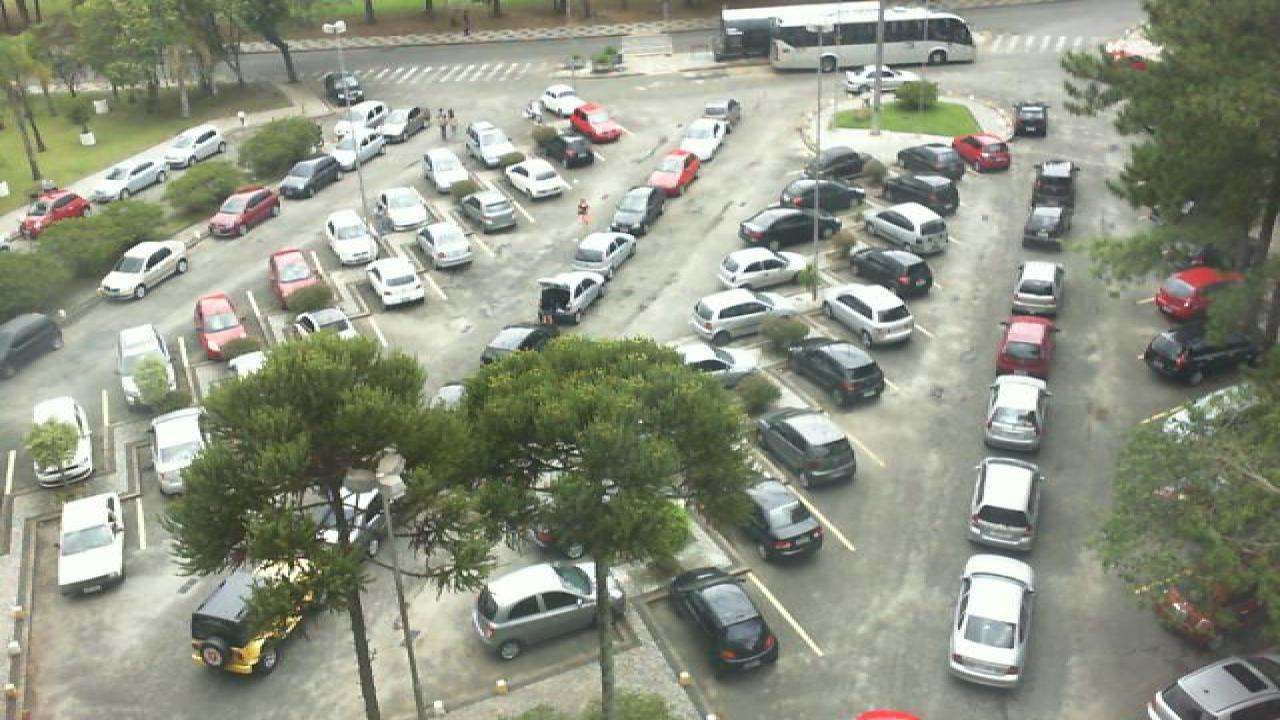Car: (470, 558, 612, 660), (188, 567, 316, 677), (672, 566, 780, 678), (946, 554, 1036, 688), (1150, 653, 1280, 720), (758, 405, 858, 487), (54, 492, 128, 592), (968, 456, 1044, 552), (1142, 326, 1256, 384), (790, 338, 886, 406), (748, 480, 824, 562), (28, 396, 94, 486), (100, 238, 188, 302), (826, 282, 914, 346), (148, 408, 208, 498), (1154, 264, 1244, 323), (116, 323, 176, 406), (316, 488, 388, 557), (984, 375, 1050, 450), (862, 202, 954, 255), (692, 287, 780, 340), (850, 249, 936, 298), (538, 270, 610, 326), (0, 312, 64, 374), (714, 248, 800, 294), (192, 292, 250, 360), (208, 186, 280, 238), (674, 342, 750, 390), (998, 315, 1056, 377), (478, 326, 560, 367), (738, 206, 818, 248), (778, 179, 864, 216), (888, 174, 962, 216), (502, 156, 572, 200), (572, 229, 636, 276), (326, 209, 380, 263), (1010, 261, 1066, 313), (368, 256, 426, 306), (90, 162, 164, 201), (154, 141, 226, 181), (274, 158, 344, 199), (266, 248, 320, 301), (416, 224, 476, 271), (374, 199, 428, 250), (612, 190, 678, 231), (464, 122, 522, 168), (16, 187, 90, 223), (462, 189, 522, 233), (842, 64, 922, 97), (320, 123, 382, 164), (896, 144, 966, 180), (420, 148, 472, 194), (650, 150, 704, 194), (950, 134, 1012, 172), (292, 309, 368, 340), (802, 144, 866, 180), (540, 128, 596, 169), (1018, 206, 1068, 248), (572, 101, 624, 141), (680, 125, 734, 162), (1034, 158, 1076, 202), (338, 101, 392, 135), (524, 97, 582, 126), (690, 98, 742, 127), (322, 71, 364, 106), (1016, 101, 1050, 137), (542, 84, 582, 110)
